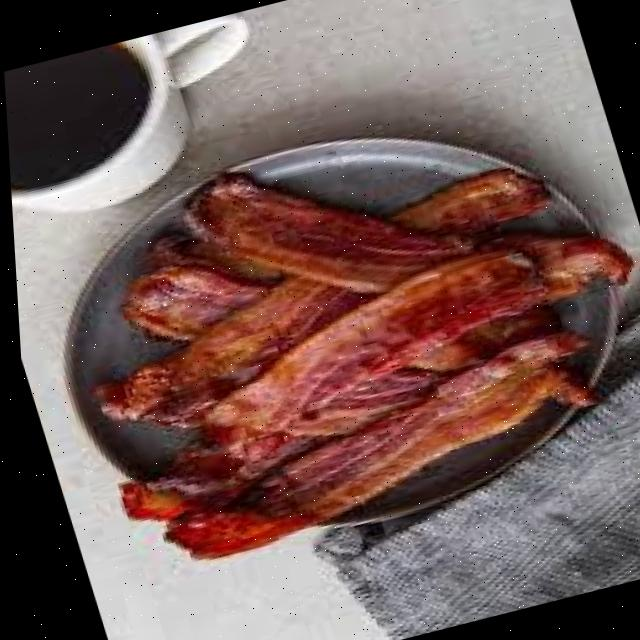Bacon: (158, 331, 588, 558), (201, 249, 541, 427), (183, 172, 468, 291), (174, 279, 364, 377), (117, 265, 261, 339), (385, 168, 543, 233)
